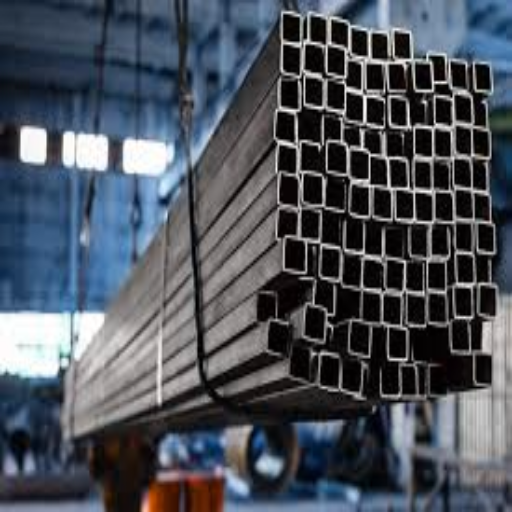Square: (361, 294, 399, 321), (291, 344, 312, 382), (304, 304, 322, 338), (320, 353, 338, 387), (315, 285, 334, 317), (267, 322, 287, 352), (350, 322, 368, 354), (300, 114, 321, 141), (285, 241, 304, 270), (380, 367, 399, 396), (302, 213, 321, 240), (257, 291, 276, 318), (344, 255, 360, 287), (408, 294, 425, 324), (343, 361, 360, 391), (328, 143, 345, 172), (479, 288, 496, 317), (279, 176, 297, 203), (322, 249, 340, 275), (415, 62, 431, 91), (352, 149, 368, 178), (352, 185, 368, 214), (346, 221, 362, 250), (304, 78, 321, 105), (304, 176, 321, 203), (328, 179, 343, 209), (415, 126, 431, 154), (279, 145, 296, 171), (283, 14, 299, 41), (281, 81, 297, 108), (346, 92, 362, 119), (454, 159, 470, 186), (374, 190, 390, 217), (363, 263, 381, 287), (428, 294, 444, 321), (452, 322, 468, 349), (389, 327, 405, 354), (302, 145, 319, 170), (384, 229, 401, 254), (277, 213, 297, 234), (367, 99, 383, 125), (387, 263, 403, 289), (428, 263, 444, 289), (475, 353, 488, 385), (430, 367, 444, 396), (328, 48, 343, 75), (391, 159, 406, 186), (436, 193, 451, 220), (455, 288, 470, 315), (309, 17, 325, 42), (277, 115, 293, 140), (456, 257, 472, 282), (451, 62, 466, 88), (432, 225, 447, 251), (283, 48, 299, 72), (305, 48, 321, 72), (415, 162, 431, 186), (415, 196, 431, 220), (348, 62, 362, 89), (456, 224, 470, 251), (408, 263, 422, 290), (388, 64, 403, 89), (475, 64, 490, 89), (371, 159, 386, 184), (430, 55, 446, 78), (328, 81, 343, 105), (391, 101, 406, 125), (473, 159, 485, 189), (397, 193, 412, 217), (331, 22, 347, 44), (436, 98, 449, 125), (436, 129, 449, 156), (479, 224, 492, 251), (412, 227, 425, 254), (352, 31, 366, 55), (372, 34, 386, 58), (367, 64, 381, 88), (456, 98, 470, 122), (456, 193, 470, 217), (475, 196, 489, 220), (365, 131, 380, 153), (475, 131, 488, 156), (436, 162, 448, 189), (387, 133, 403, 153), (395, 34, 408, 57), (477, 255, 489, 279), (402, 369, 414, 393), (455, 128, 468, 150), (326, 120, 341, 138), (475, 99, 485, 125), (417, 365, 425, 394), (362, 369, 369, 397), (345, 129, 358, 144)
